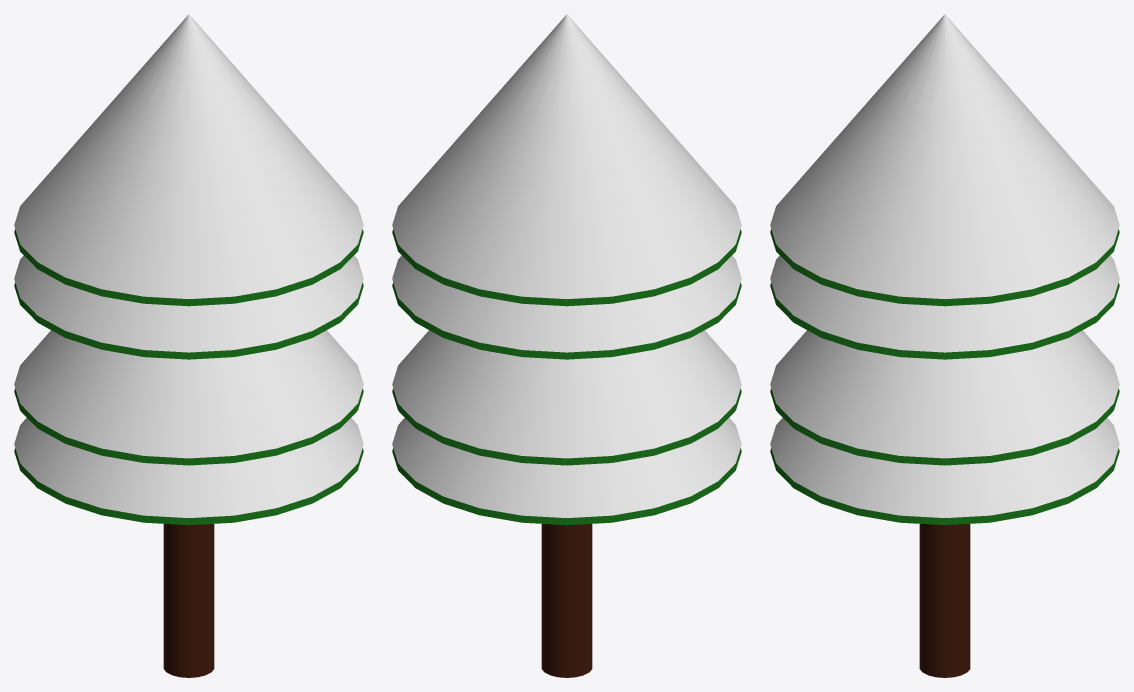
The model's file is SnowyTree.FBX.
3 renders of one model, left to right at view 1: azimuth 30°, elevation 25°; view 2: azimuth 150°, elevation 25°; view 3: azimuth 270°, elevation 25°, orthographic.
Visible parts, largest first — view 1: Cone008, Cone006, Cone005, Cone007, Cylinder001, Cone002, Cone003, Cone001, Cone004; view 2: Cone008, Cone006, Cone005, Cone007, Cylinder001, Cone002, Cone003, Cone001, Cone004; view 3: Cone008, Cone006, Cone005, Cone007, Cylinder001, Cone002, Cone003, Cone001, Cone004.
Part boxes in pixels (<box>): Cone008: <box>14,14,363,298</box>; Cone006: <box>14,330,363,458</box>; Cone005: <box>14,418,363,517</box>; Cone007: <box>14,255,363,352</box>; Cylinder001: <box>163,524,214,677</box>; Cone002: <box>14,282,363,359</box>; Cone003: <box>14,388,363,465</box>; Cone001: <box>14,229,363,306</box>; Cone004: <box>14,448,363,525</box>; Cone008: <box>392,14,741,298</box>; Cone006: <box>392,330,741,458</box>; Cone005: <box>392,418,741,517</box>; Cone007: <box>392,255,741,352</box>; Cylinder001: <box>541,524,592,677</box>; Cone002: <box>392,282,741,359</box>; Cone003: <box>392,388,741,465</box>; Cone001: <box>392,229,741,306</box>; Cone004: <box>392,448,741,525</box>; Cone008: <box>770,14,1119,298</box>; Cone006: <box>770,330,1119,458</box>; Cone005: <box>770,418,1119,517</box>; Cone007: <box>770,255,1119,352</box>; Cylinder001: <box>919,524,970,677</box>; Cone002: <box>770,282,1119,359</box>; Cone003: <box>770,388,1119,465</box>; Cone001: <box>770,229,1119,306</box>; Cone004: <box>770,448,1119,525</box>.
Size of the model in its own units: 59.06 by 122 by 59.06.
